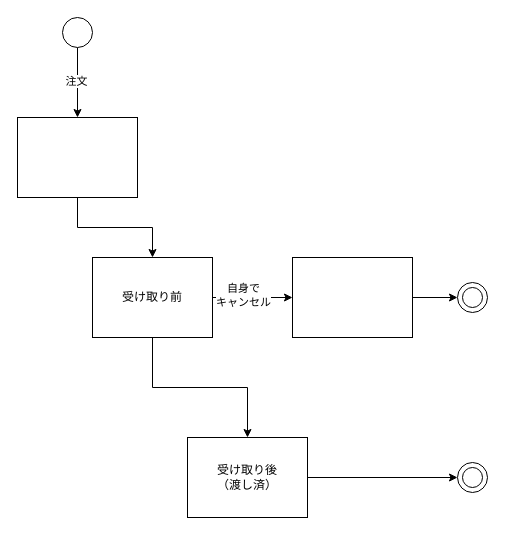
Some shapes in this 505 by 535 pixel diagram are drawn without their labels. The shapes that lost their labels are listed below. From the top down, each one's centre as x and y in pixels, then its label:
At (77,157): "支払い待ち".
At (352,297): "取消し済".
